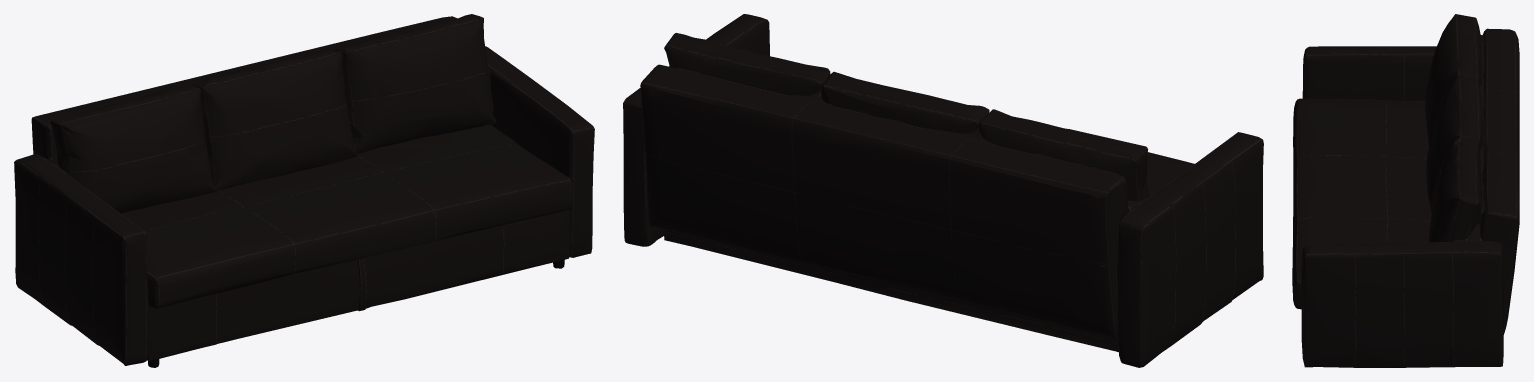
The model's file is FRIHETEN sofa-bed - Bomstad black.glb.
3 views of the same model, side by side, from view 1: azimuth 30°, elevation 25°; view 2: azimuth 150°, elevation 25°; view 3: azimuth 270°, elevation 25° (orthographic). The views are drawn at different scales.
Parts seen in each view (by area): view 1: ProcessedMeshNode; view 2: ProcessedMeshNode; view 3: ProcessedMeshNode.
Boxes of the visible parts, x1,y1,x2,y2 form: ProcessedMeshNode: [14, 14, 594, 367]; ProcessedMeshNode: [623, 14, 1263, 367]; ProcessedMeshNode: [1292, 14, 1519, 367].
Bounding box in the file's own units: 2.28 × 0.862 × 1.05.
Materials: 1 (1 with a texture image).
